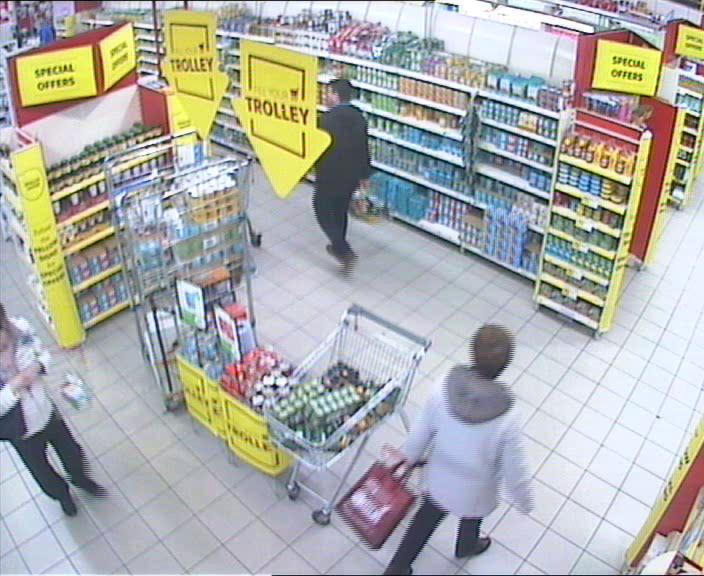filled-basket: (32, 340, 96, 417)
filled-shopping-bags: (336, 466, 416, 552)
person: (382, 324, 533, 576), (0, 302, 108, 517)
person-with-filled-basket-trolly: (0, 302, 108, 517)
person-with-filled-shopping-bag-s-: (336, 324, 532, 576)
